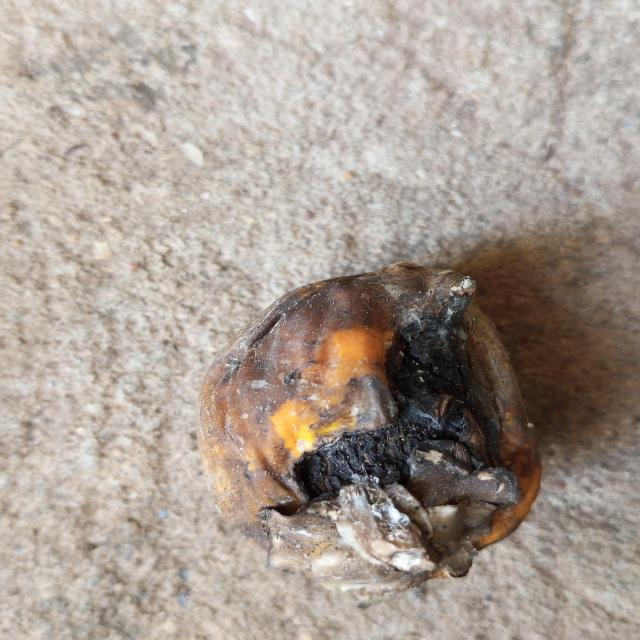damaged: (198, 263, 543, 579)
